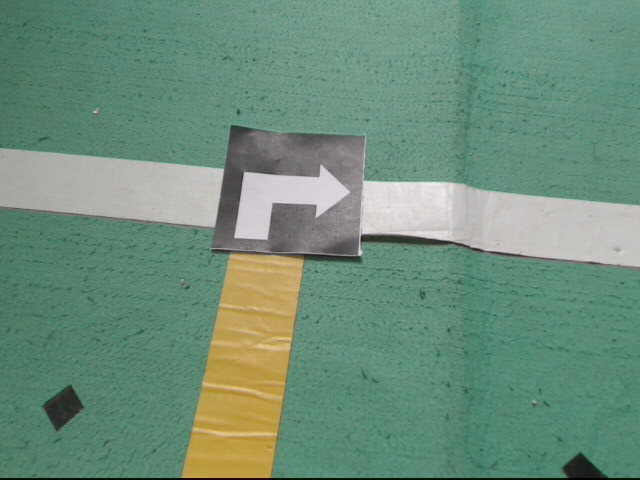right: (210, 126, 365, 257)
